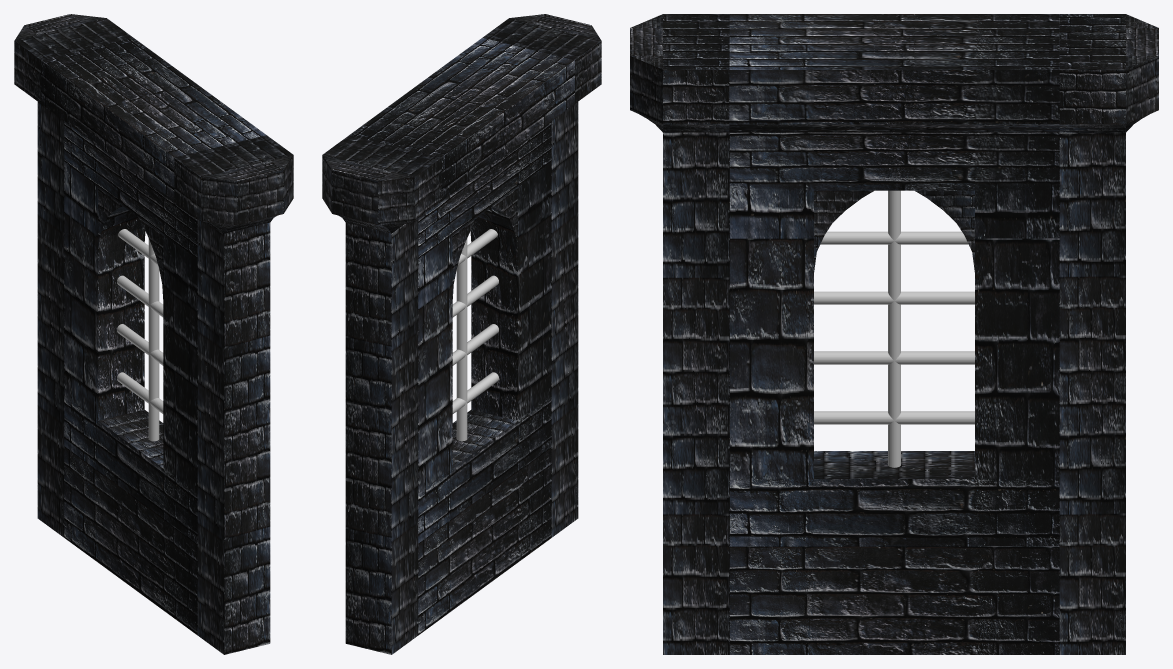
File: stone_wall_middle_window.fbx
The picture shows the model from 3 angles, left to right: view 1: azimuth 30°, elevation 25°; view 2: azimuth 150°, elevation 25°; view 3: azimuth 270°, elevation 25°; orthographic projection. The views are drawn at different scales.
Parts seen in each view (by area): view 1: Middle, RightSide, LeftSide, Cylinder, Cylinder.001, Cylinder.003, Cylinder.002, Cylinder.004; view 2: Middle, LeftSide, RightSide, Cylinder, Cylinder.001, Cylinder.003, Cylinder.002, Cylinder.004; view 3: Middle, RightSide, LeftSide, Cylinder, Cylinder.003, Cylinder.001, Cylinder.002, Cylinder.004.
Part boxes in pixels (left/top/right/bottom): Middle: left=41, top=37, right=266, bottom=635; RightSide: left=174, top=135, right=293, bottom=654; LeftSide: left=14, top=14, right=132, bottom=537; Cylinder: left=148, top=239, right=159, bottom=441; Cylinder.001: left=117, top=275, right=163, bottom=317; Cylinder.003: left=117, top=372, right=163, bottom=413; Cylinder.002: left=117, top=324, right=163, bottom=365; Cylinder.004: left=118, top=229, right=157, bottom=265; Middle: left=349, top=37, right=574, bottom=635; LeftSide: left=322, top=135, right=441, bottom=654; RightSide: left=483, top=14, right=601, bottom=537; Cylinder: left=456, top=239, right=467, bottom=441; Cylinder.001: left=452, top=275, right=498, bottom=317; Cylinder.003: left=452, top=372, right=498, bottom=413; Cylinder.002: left=452, top=324, right=498, bottom=365; Cylinder.004: left=458, top=229, right=497, bottom=265; Middle: left=729, top=14, right=1059, bottom=654; RightSide: left=630, top=14, right=729, bottom=654; LeftSide: left=1059, top=14, right=1158, bottom=654; Cylinder: left=888, top=190, right=900, bottom=467; Cylinder.003: left=814, top=411, right=974, bottom=424; Cylinder.001: left=814, top=291, right=974, bottom=304; Cylinder.002: left=814, top=351, right=974, bottom=364; Cylinder.004: left=820, top=231, right=968, bottom=244.
Size of the model in its own units: 400 by 2000 by 1600.
